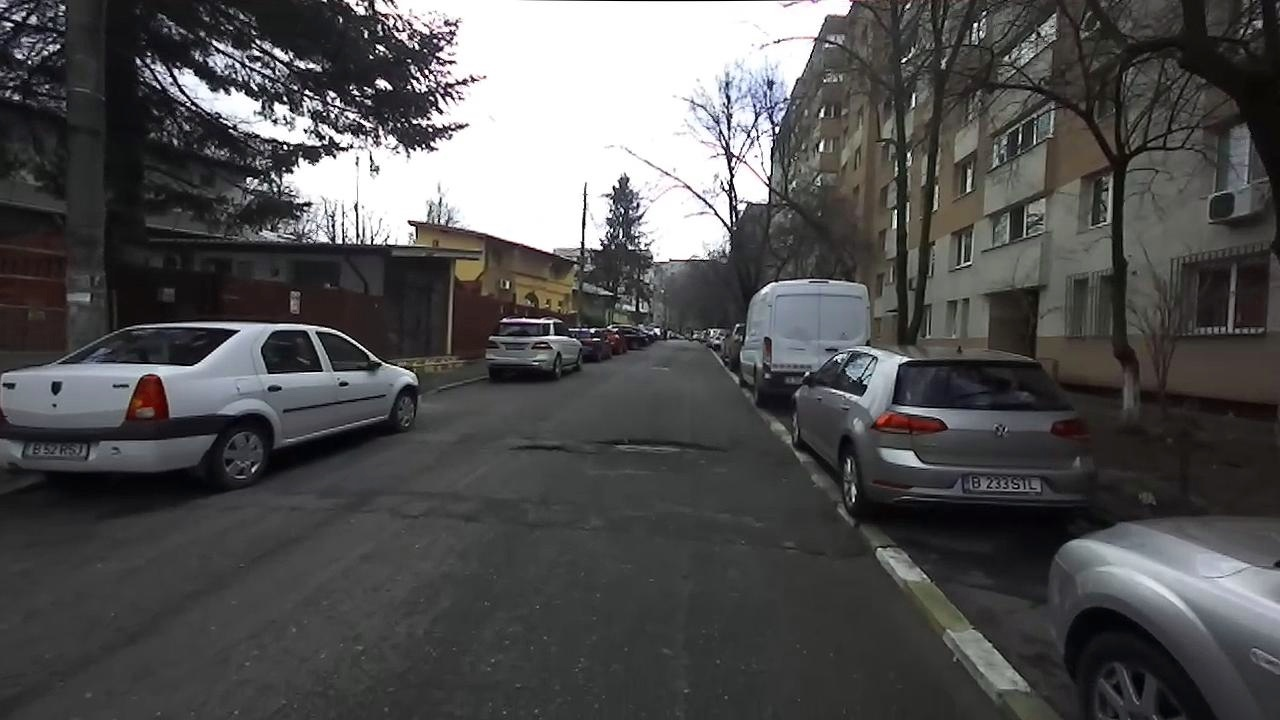pothole: (590, 434, 729, 456), (777, 541, 861, 565), (506, 437, 578, 452)
